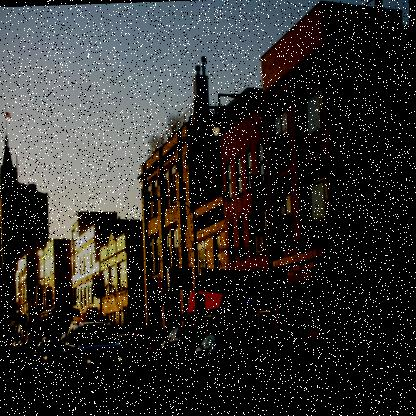Car: (4, 315, 250, 390)
